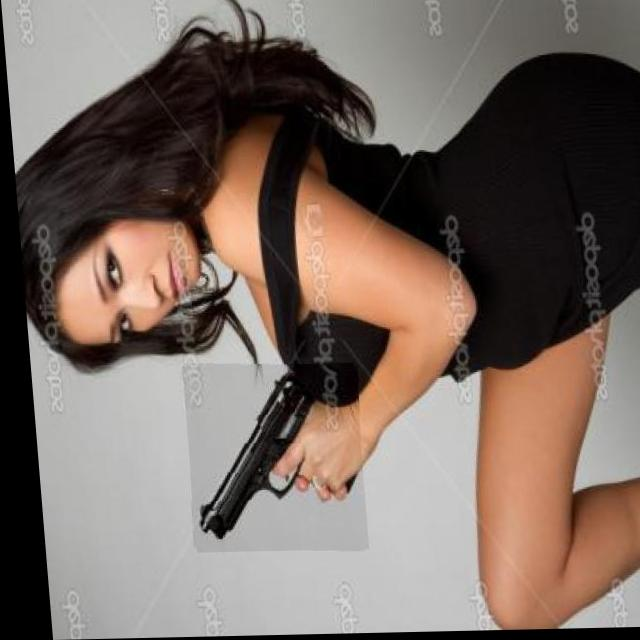handgun: (173, 363, 360, 555)
